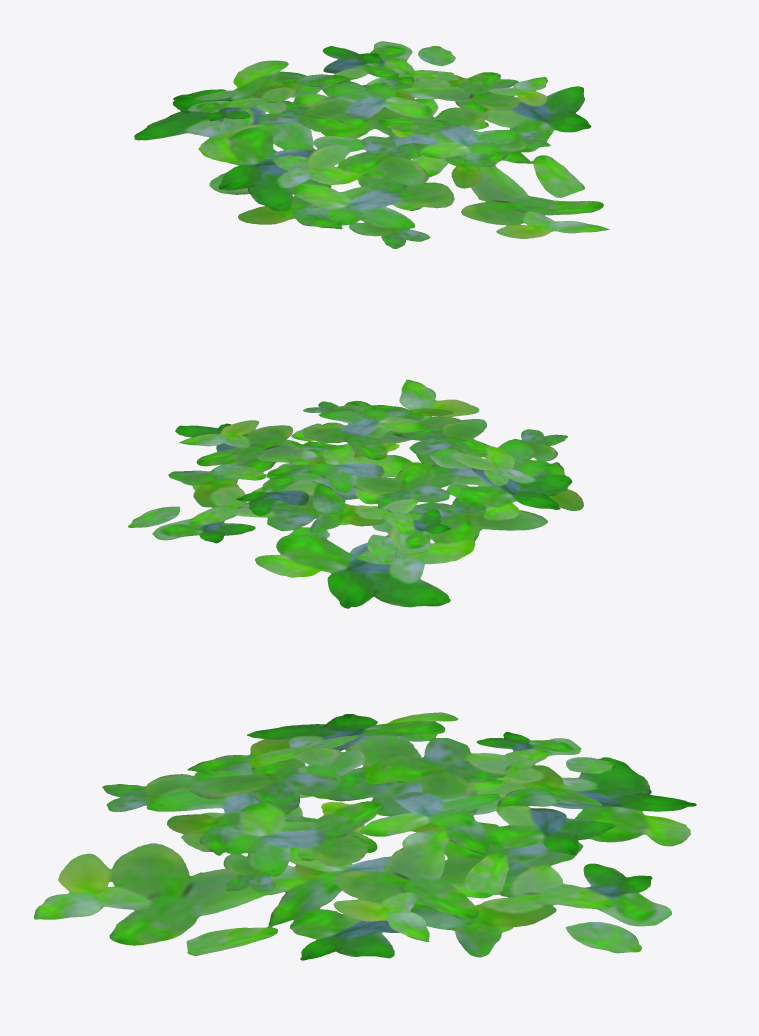
The model's file is Leaf.fbx.
3 views of the same model, one above another, from view 1: azimuth 30°, elevation 25°; view 2: azimuth 150°, elevation 25°; view 3: azimuth 270°, elevation 25° (orthographic). The views are drawn at different scales.
Visible parts, largest first — view 1: Leafes.001; view 2: Leafes.001; view 3: Leafes.001.
Boxes of the visible parts, box(x1,y1,x2,y2) form: Leafes.001: box(134, 41, 609, 248); Leafes.001: box(128, 379, 583, 608); Leafes.001: box(33, 712, 696, 960).
Bounding box in the file's own units: 215 × 25.24 × 216.
Materials: 1 (1 with a texture image).
